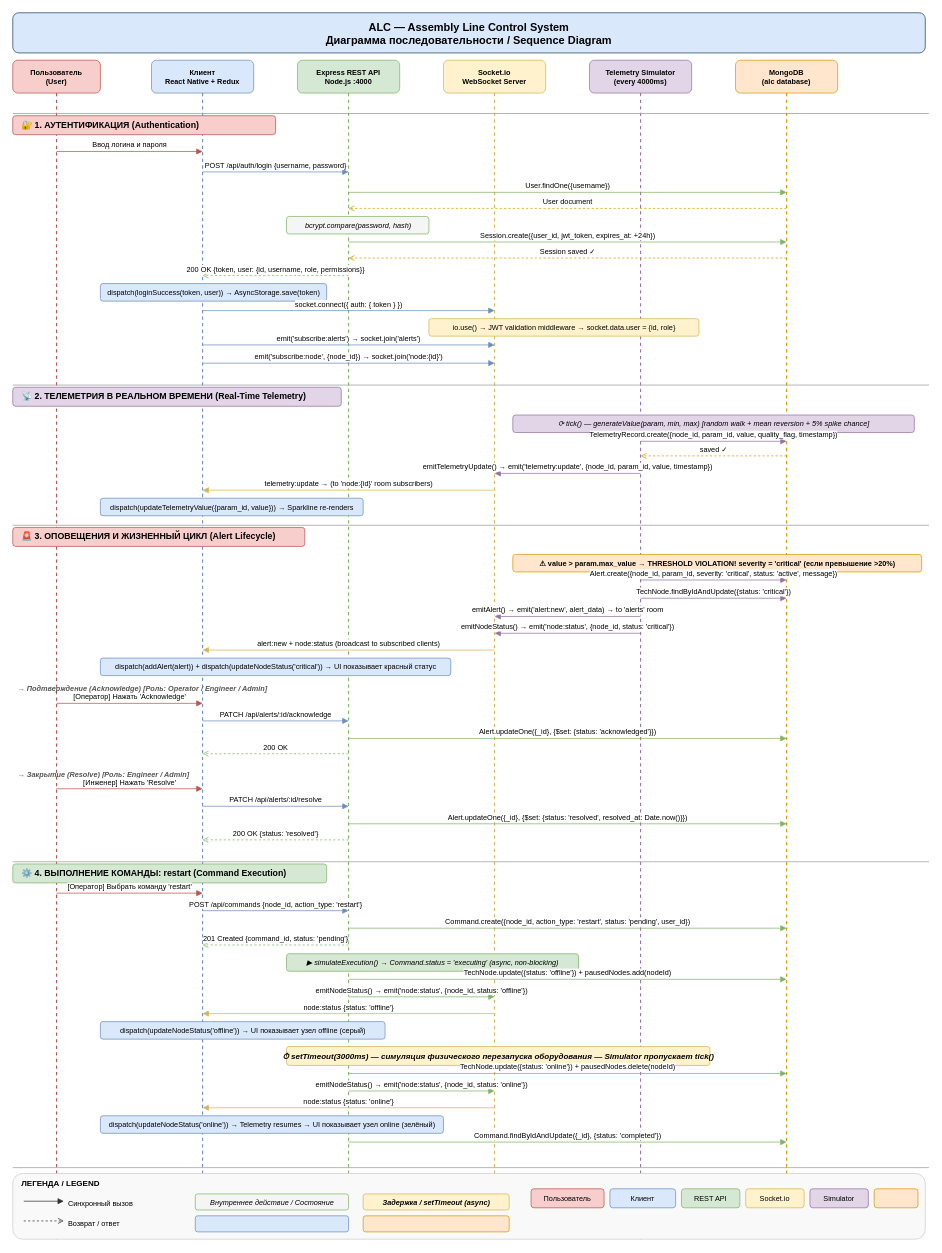
This 942x1253 diagram has some shape labels left out. The shapes that lost their labels are listed below. From the top down, each one's centre as x and y in pixels, then its label:
At (x=895, y=1198): "MongoDB".
At (x=272, y=1223): "Redux Store / Client state update".
At (x=435, y=1223): "Порог / нарушение (Threshold breach)".
